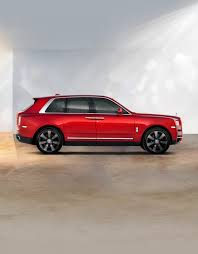car: (13, 90, 192, 164)
